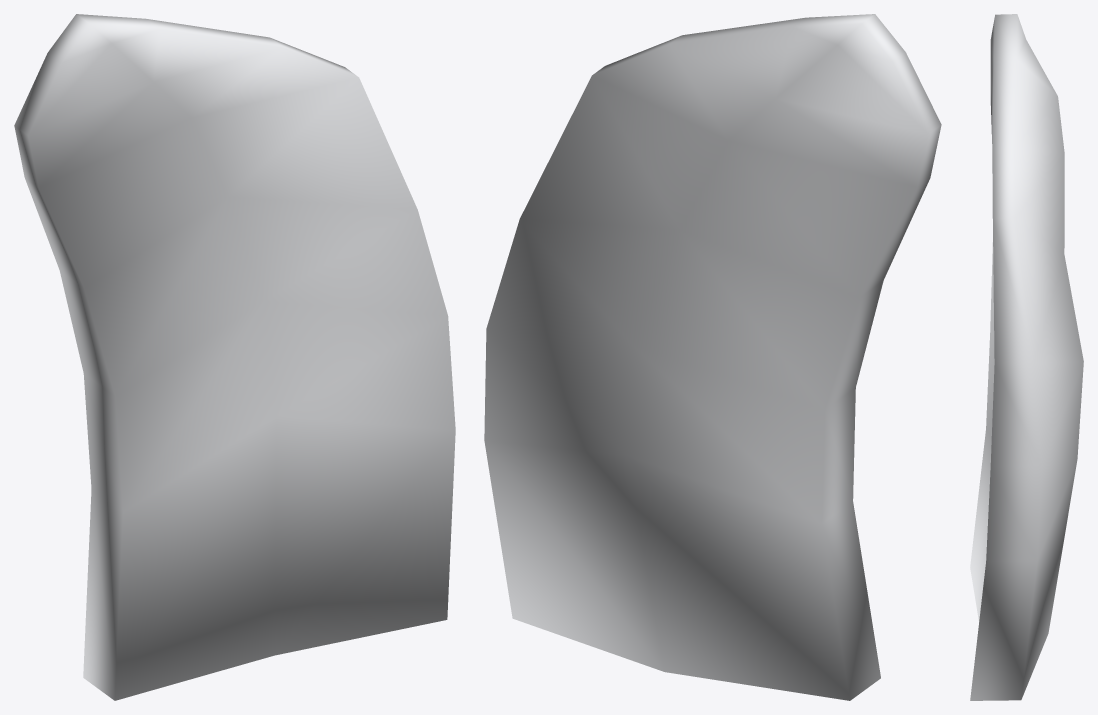
Rendered from grass-16_col.fbx.
3 renders of one model, left to right at view 1: azimuth 30°, elevation 25°; view 2: azimuth 150°, elevation 25°; view 3: azimuth 270°, elevation 25°, orthographic. The views are drawn at different scales.
Visible parts, largest first — view 1: grass-16.col; view 2: grass-16.col; view 3: grass-16.col.
Boxes of the visible parts, <box> form: grass-16.col: <box>14,14,455,700</box>; grass-16.col: <box>484,14,941,700</box>; grass-16.col: <box>970,14,1083,700</box>.
Bounding box in the file's own units: 0.0493 × 0.0743 × 0.0139.
Materials: 1 (1 with a texture image).
